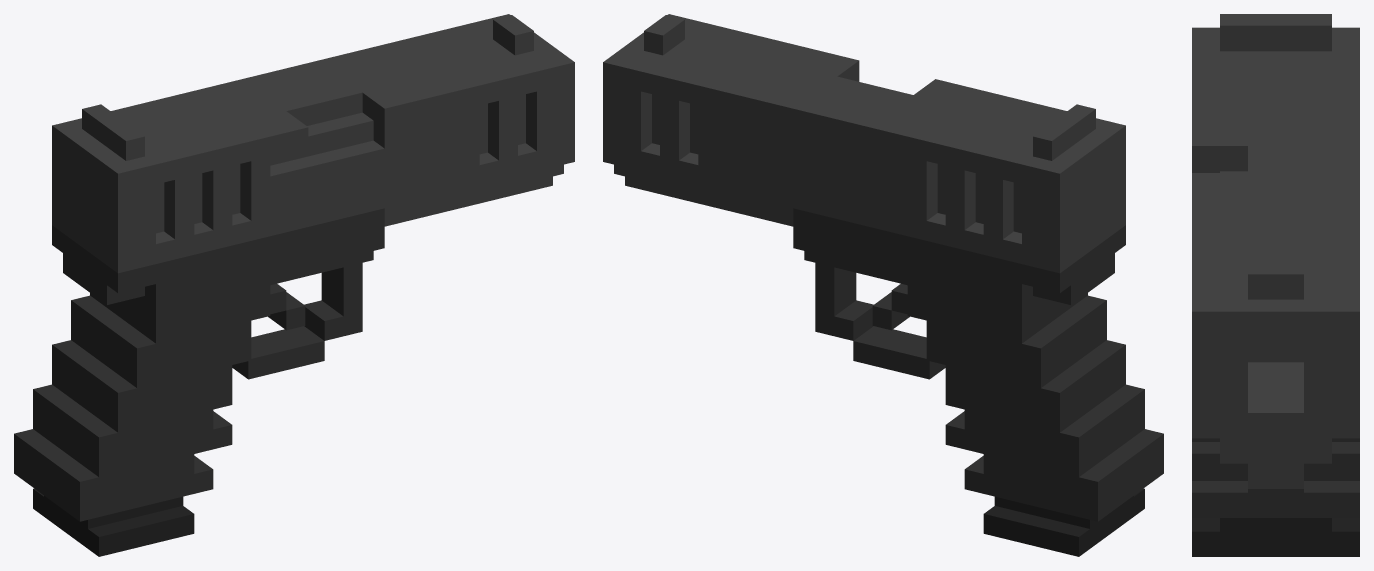
Rendered from gun.obj.
3 renders of one model, left to right at view 1: azimuth 30°, elevation 25°; view 2: azimuth 150°, elevation 25°; view 3: azimuth 270°, elevation 25°, orthographic. The views are drawn at different scales.
Parts seen in each view (by area): view 1: Untitled; view 2: Untitled; view 3: Untitled.
Boxes of the visible parts, x1,y1,x2,y2 form: Untitled: [14, 14, 574, 556]; Untitled: [603, 14, 1163, 556]; Untitled: [1192, 14, 1359, 556].
Bounding box in the file's own units: 2.6 × 2 × 0.6.
Materials: 1 (1 with a texture image).
